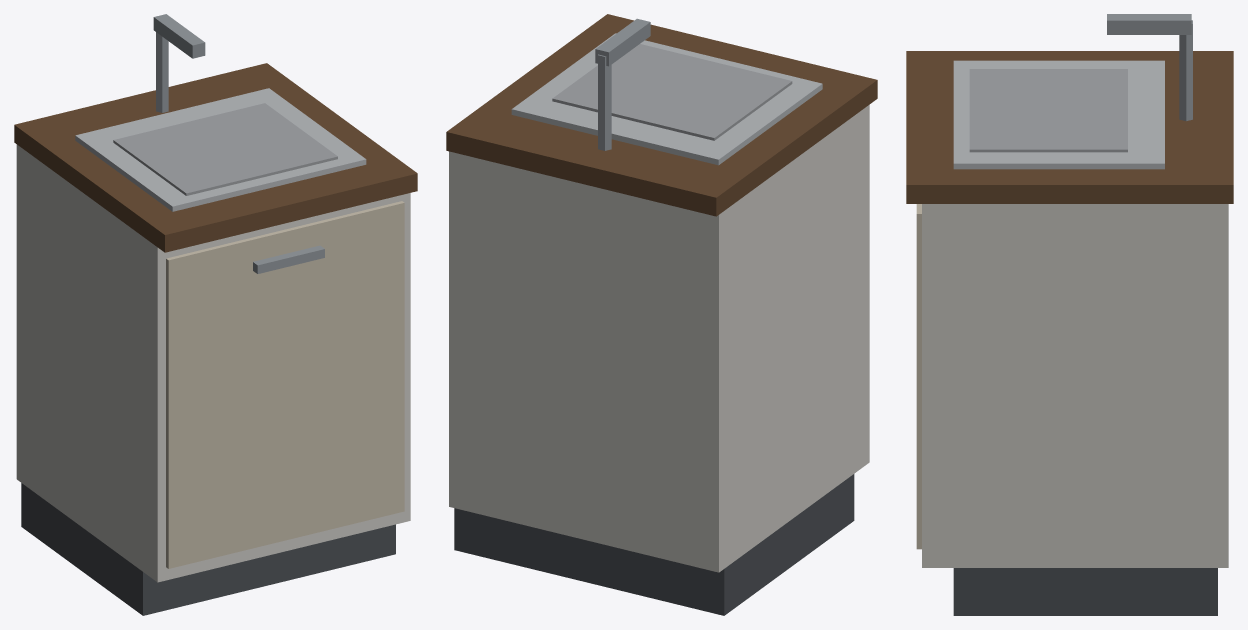
The model's file is kitchen_sink.glb.
3 renders of one model, left to right at view 1: azimuth 30°, elevation 25°; view 2: azimuth 150°, elevation 25°; view 3: azimuth 270°, elevation 25°, orthographic. The views are drawn at different scales.
Parts seen in each view (by area): view 1: kitchen_sink; view 2: kitchen_sink; view 3: kitchen_sink.
Part boxes in pixels (<box>): kitchen_sink: <box>14,14,417,615</box>; kitchen_sink: <box>446,14,877,615</box>; kitchen_sink: <box>906,14,1233,615</box>.
Size of the model in its own units: 0.6 by 1.11 by 0.62.
